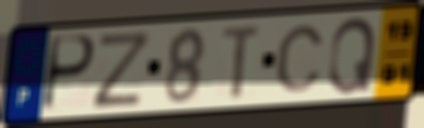8: (163, 26, 208, 106)
C: (274, 23, 327, 95)
P: (38, 32, 98, 114)
Q: (326, 15, 379, 97)
T: (220, 22, 264, 102)
Z: (91, 29, 155, 112)
